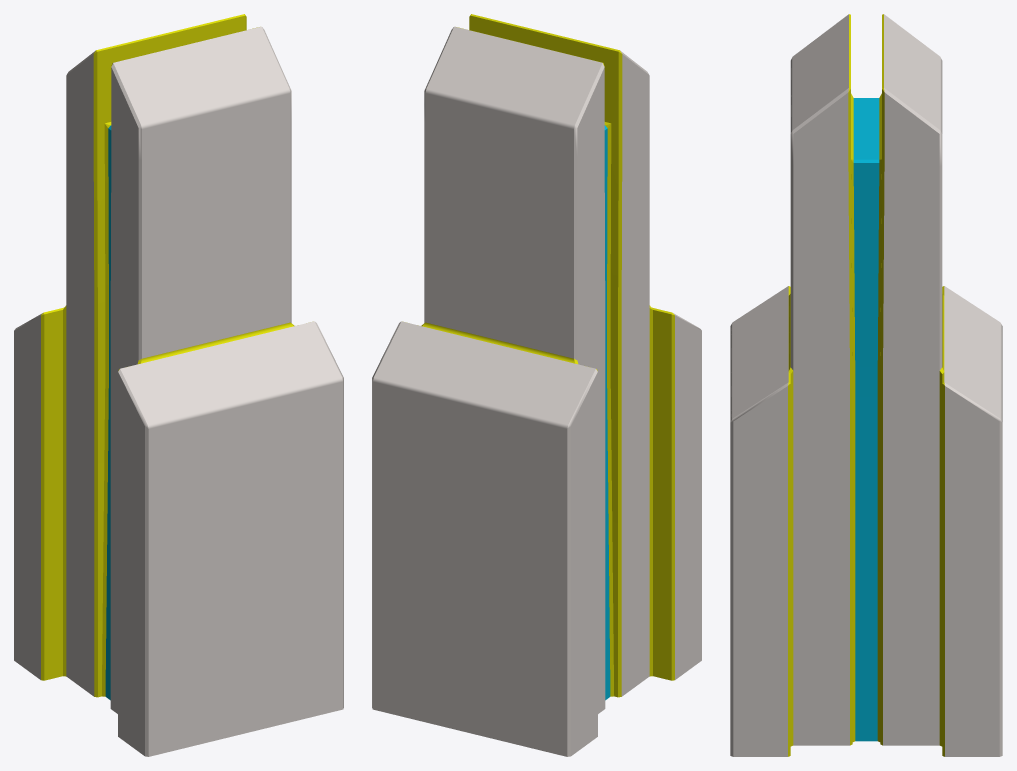
Rendered from tower_big_nodecoration.fbx.
The picture shows the model from 3 angles, left to right: view 1: azimuth 30°, elevation 25°; view 2: azimuth 150°, elevation 25°; view 3: azimuth 270°, elevation 25°; orthographic projection.
Parts seen in each view (by area): view 1: tower_big_nodecoration; view 2: tower_big_nodecoration; view 3: tower_big_nodecoration.
Boxes of the visible parts, <box> form: tower_big_nodecoration: <box>14,14,343,756</box>; tower_big_nodecoration: <box>372,14,701,756</box>; tower_big_nodecoration: <box>730,14,1002,756</box>.
Bounding box in the file's own units: 2838 × 8805 × 3307.
